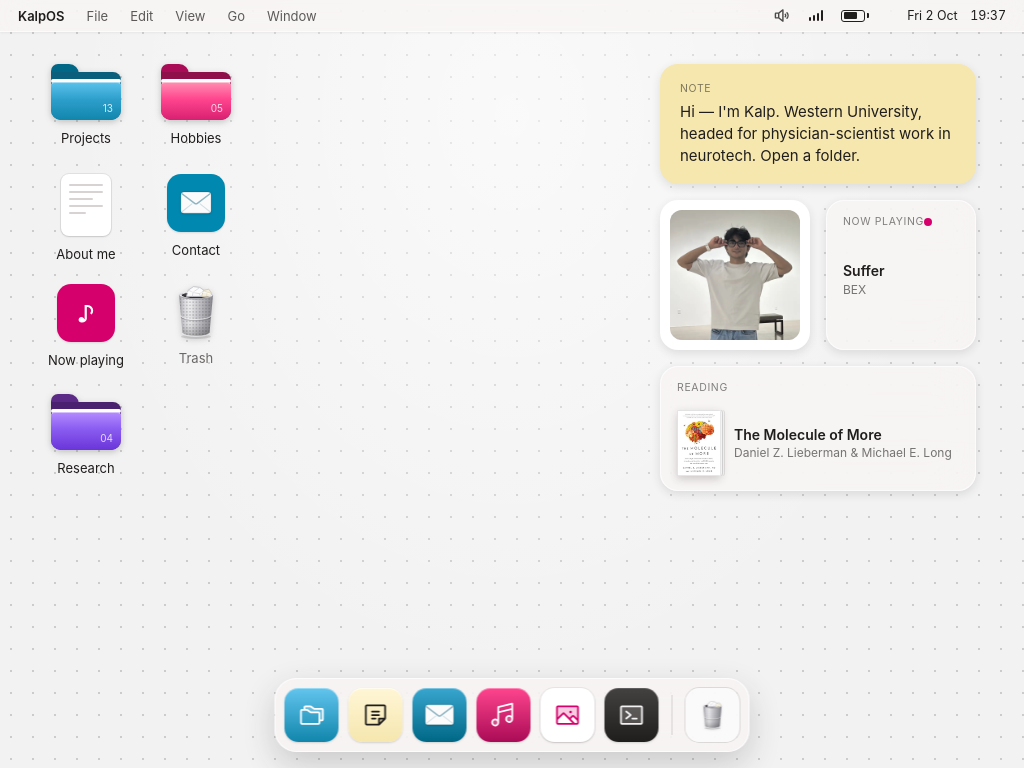
Test: KalpOS windows with a real pointer (the browser's pointer-capture path) › one click on Projects opens the window; a held click on the red light closes it
Click the button with class "kos-icon" showing "13 Projects" at x=86, y=106, box left=38, top=64, right=134, bottom=147
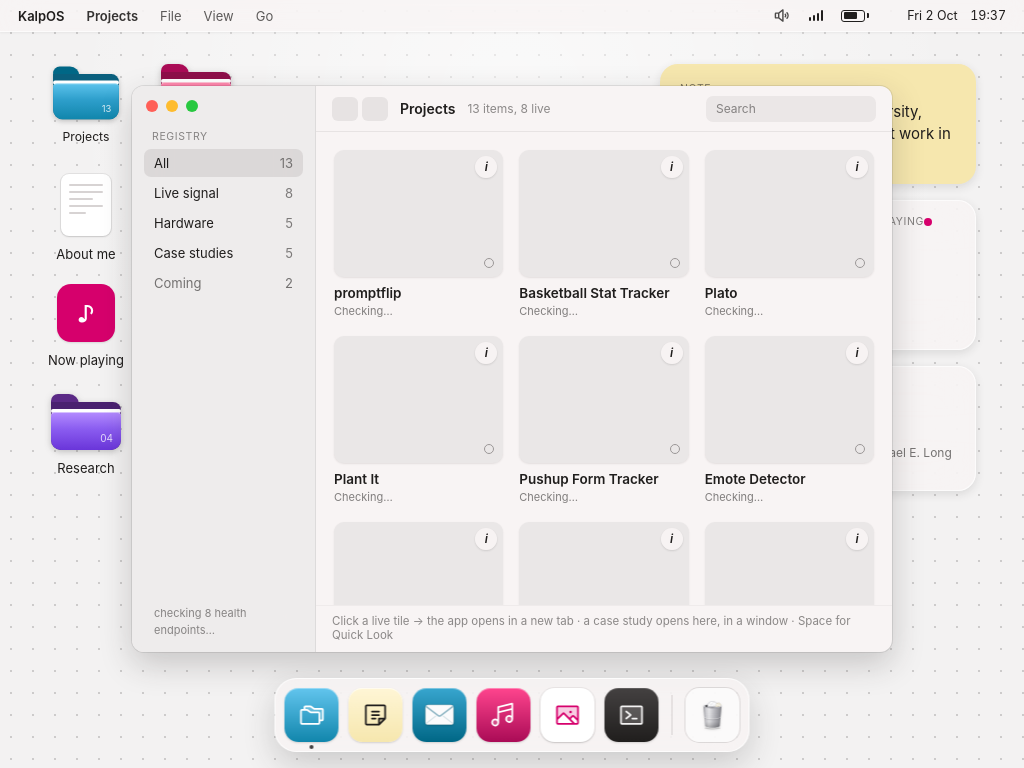
Expected: the dialog is shown, left=132, top=86, right=892, bottom=652
Click the button with class "kos-light--close" at x=152, y=106, box left=146, top=100, right=158, bottom=112
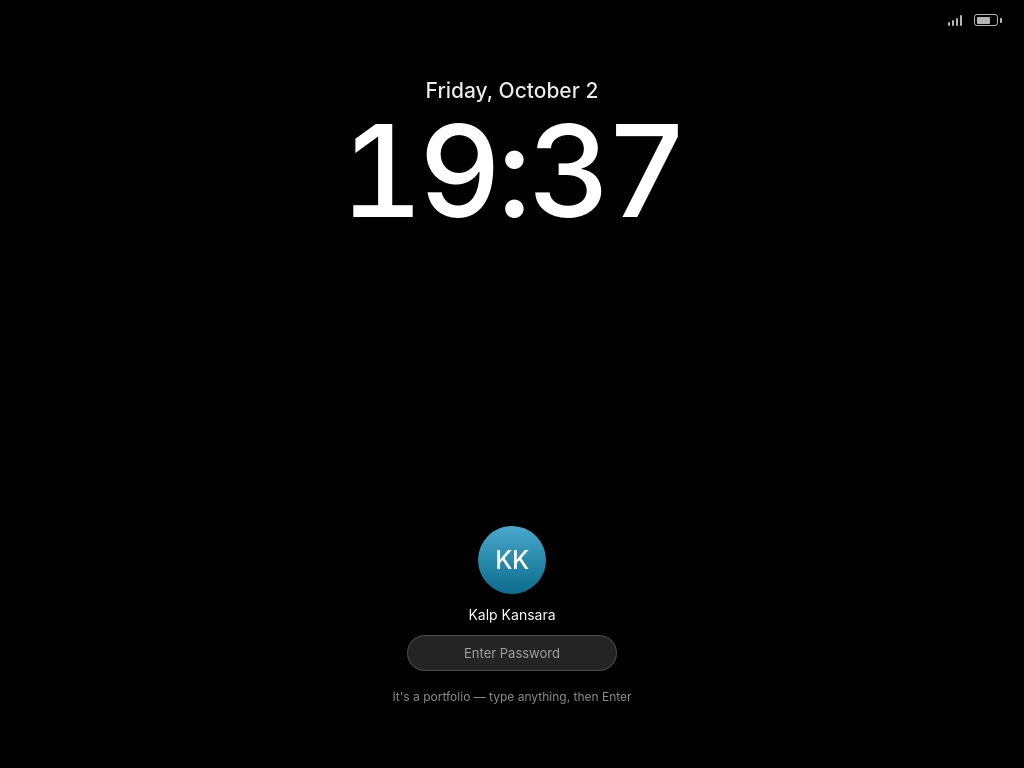
Expected: the dialog is gone
